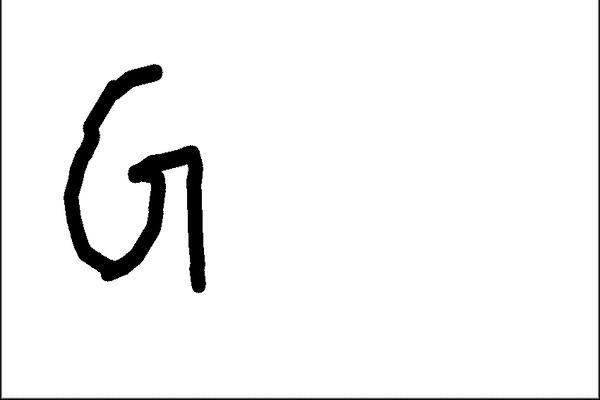G: (58, 61, 211, 299)
